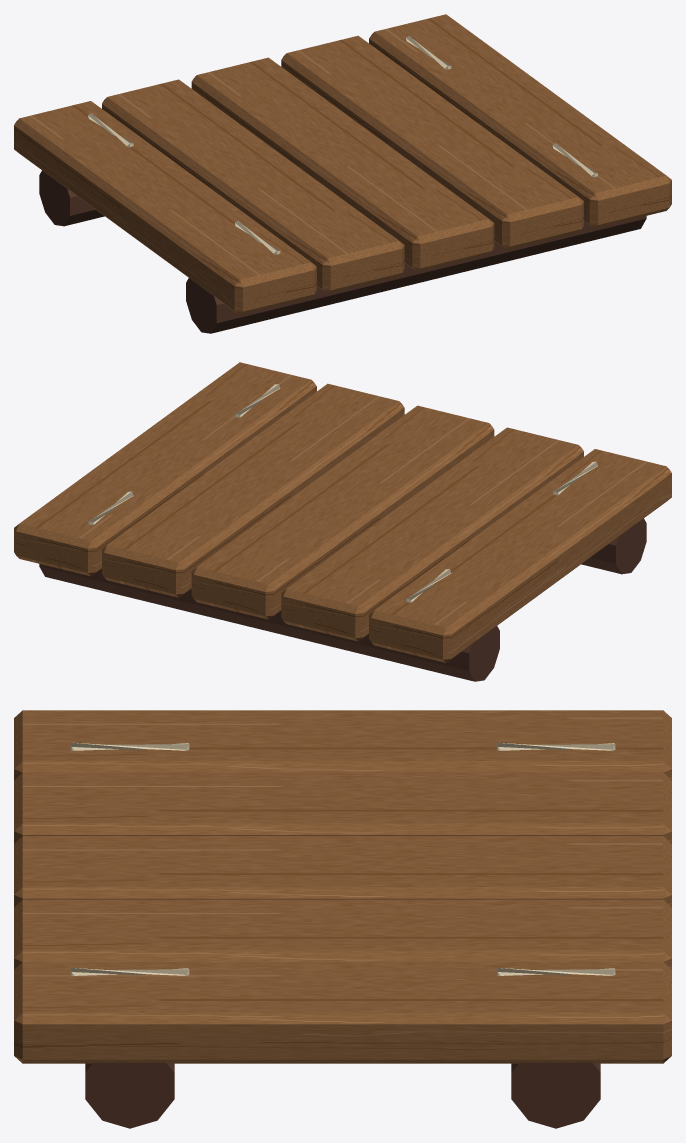
Rendered from raft.glb.
The picture shows the model from 3 angles, top to bottom: view 1: azimuth 30°, elevation 25°; view 2: azimuth 150°, elevation 25°; view 3: azimuth 270°, elevation 25°; orthographic projection. The views are drawn at different scales.
Parts seen in each view (by area): view 1: WornDeckPlank; view 2: WornDeckPlank; view 3: WornDeckPlank.
Part boxes in pixels (x1,y1,x2,y2): WornDeckPlank: (14,14,671,333); WornDeckPlank: (14,362,671,681); WornDeckPlank: (14,710,671,1128).
Size of the model in its own units: 2.34 by 0.4244 by 2.1.
Materials: 3 (2 with a texture image).
